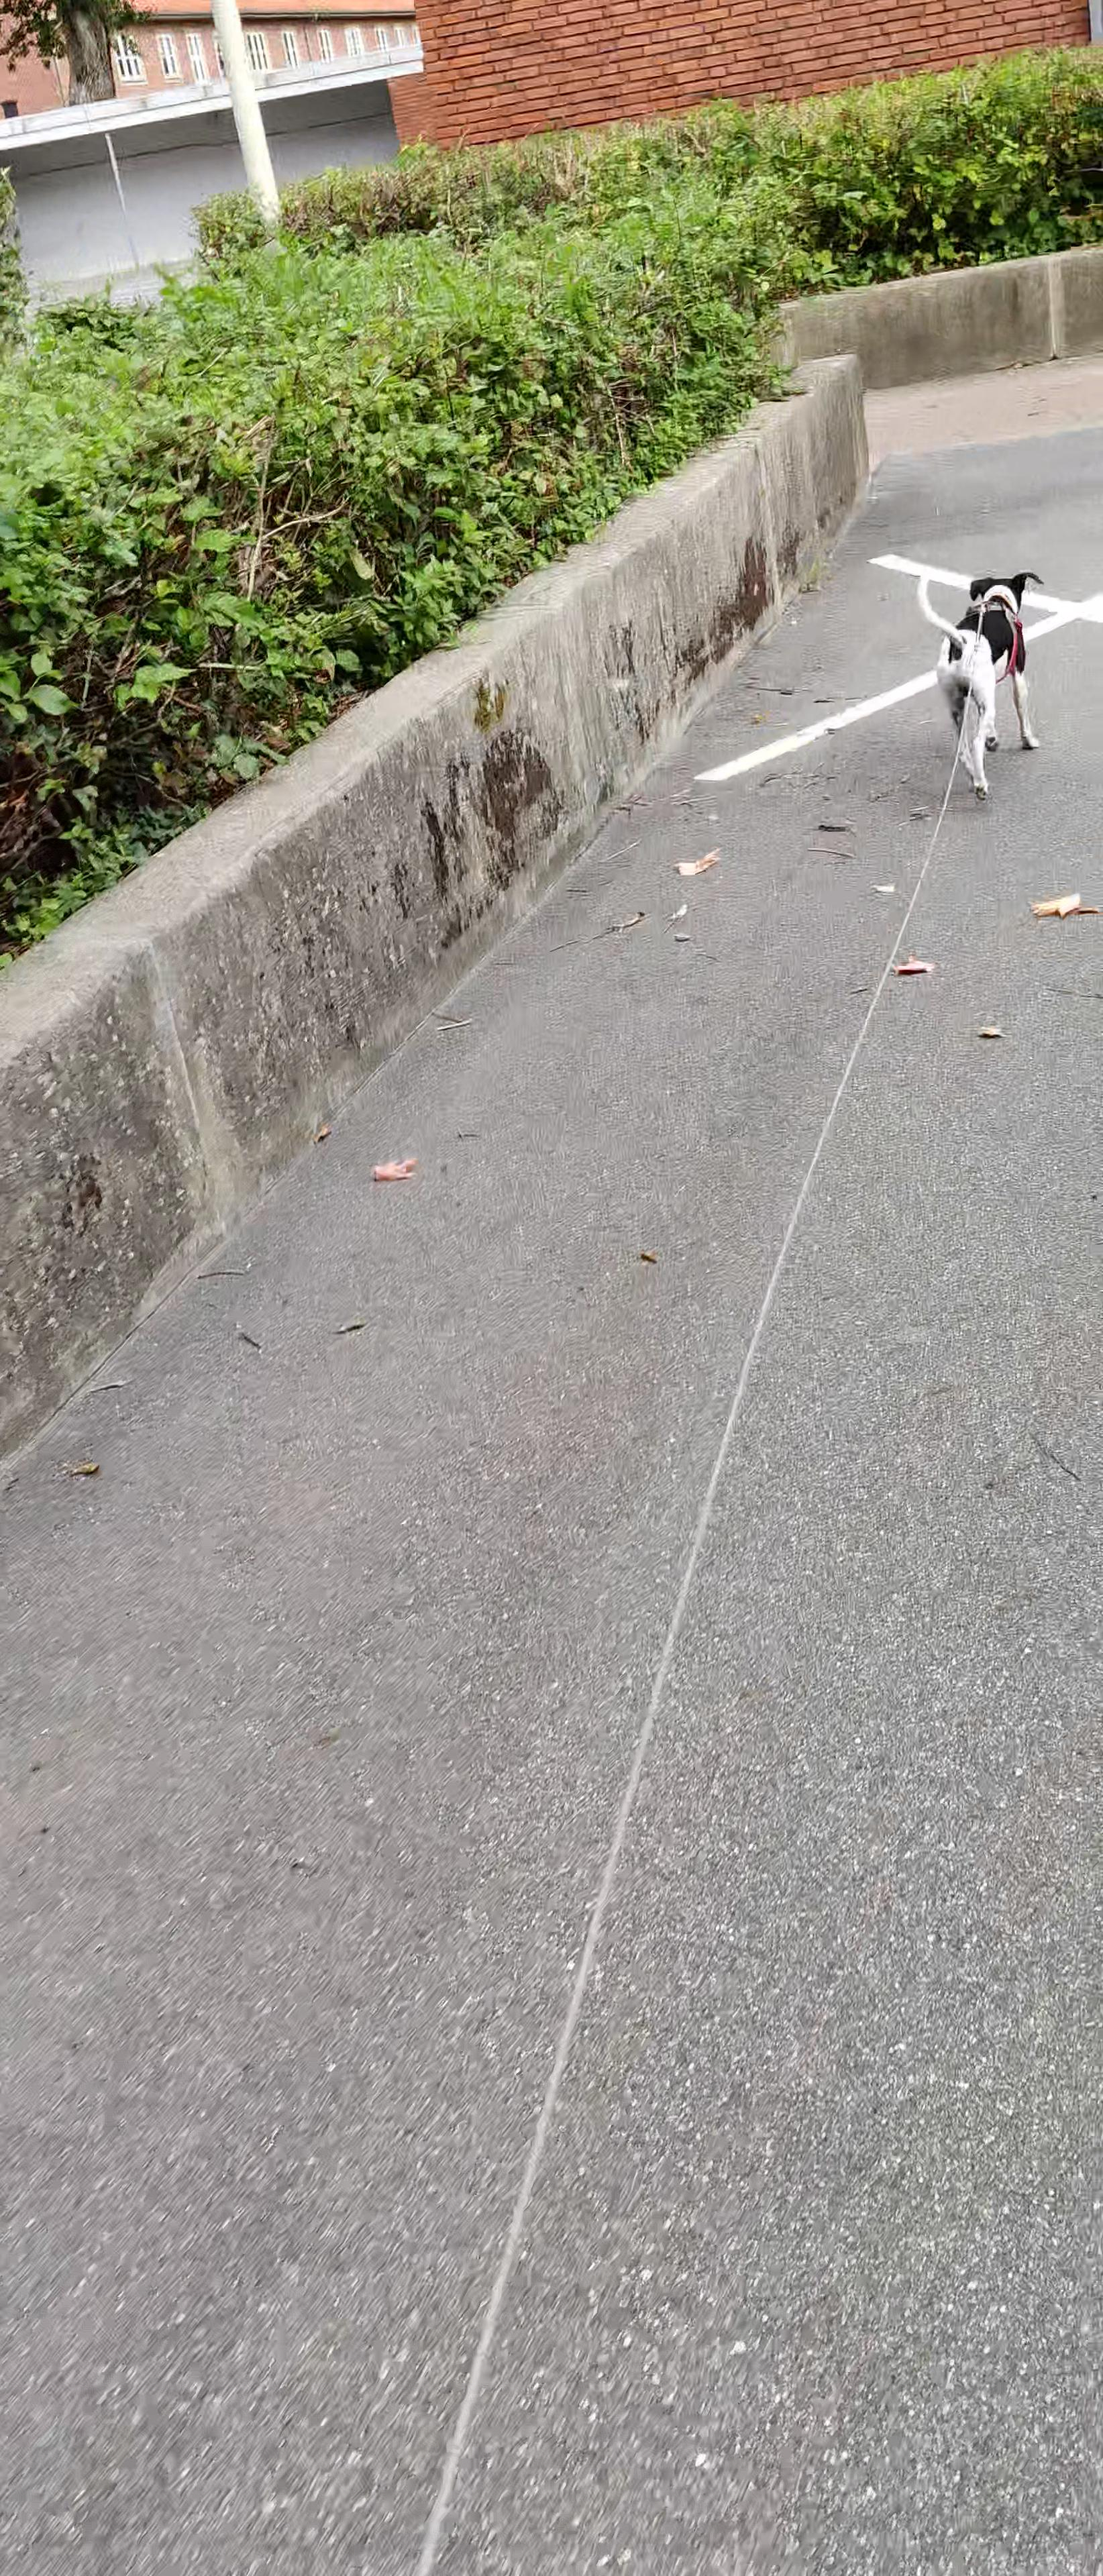Dog: (911, 563, 1052, 807)
